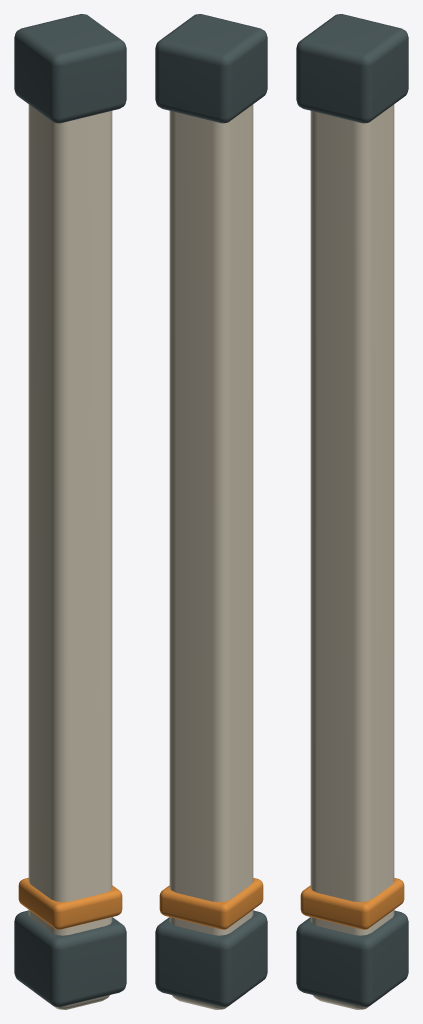
The model's file is junction-post.glb.
3 views of the same model, side by side, from view 1: azimuth 30°, elevation 25°; view 2: azimuth 150°, elevation 25°; view 3: azimuth 330°, elevation 25° (orthographic).
Visible parts, largest first — view 1: junction-post / 01 • warm porcelain paint, junction-post / 06 • dark anodized frame, junction-post / 03 • ochre enamel; view 2: junction-post / 01 • warm porcelain paint, junction-post / 06 • dark anodized frame, junction-post / 03 • ochre enamel; view 3: junction-post / 01 • warm porcelain paint, junction-post / 06 • dark anodized frame, junction-post / 03 • ochre enamel.
Boxes of the visible parts, x1=… form: junction-post / 01 • warm porcelain paint: x1=28, y1=104, x2=112, y2=1009; junction-post / 06 • dark anodized frame: x1=14, y1=14, x2=126, y2=1006; junction-post / 03 • ochre enamel: x1=18, y1=878, x2=122, y2=929; junction-post / 01 • warm porcelain paint: x1=169, y1=104, x2=253, y2=1009; junction-post / 06 • dark anodized frame: x1=155, y1=14, x2=267, y2=1006; junction-post / 03 • ochre enamel: x1=159, y1=878, x2=263, y2=929; junction-post / 01 • warm porcelain paint: x1=310, y1=104, x2=394, y2=1009; junction-post / 06 • dark anodized frame: x1=296, y1=14, x2=408, y2=1006; junction-post / 03 • ochre enamel: x1=300, y1=878, x2=404, y2=929.
Size of the model in its own units: 0.23 by 2.8 by 0.23.
